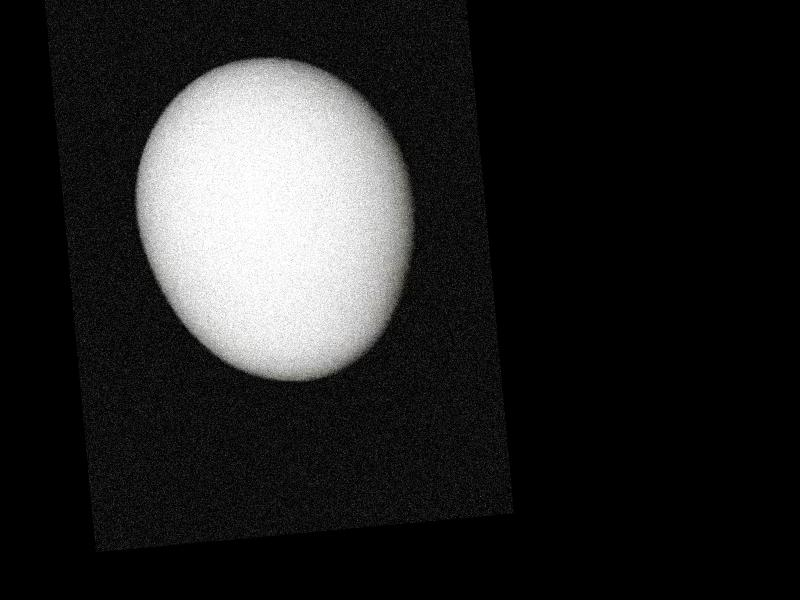Eggs: (124, 43, 422, 390)
